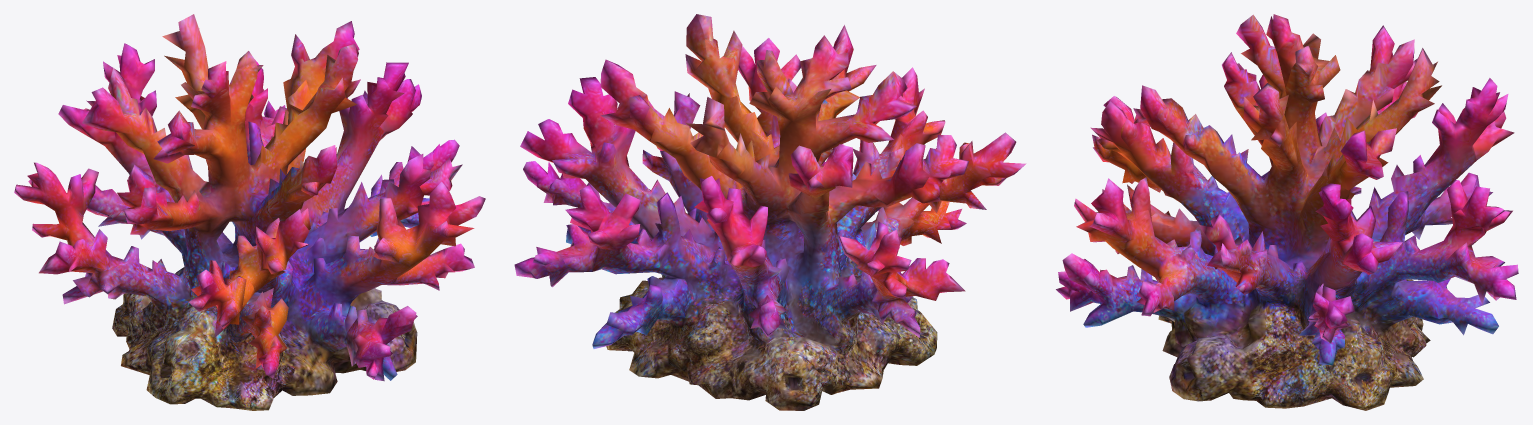
The model's file is BranchCoral.obj.
The picture shows the model from 3 angles, left to right: view 1: azimuth 30°, elevation 25°; view 2: azimuth 150°, elevation 25°; view 3: azimuth 270°, elevation 25°; orthographic projection. The views are drawn at different scales.
Bounding box in the file's own units: 1 × 0.6877 × 0.9231.
Materials: 1 (1 with a texture image).
